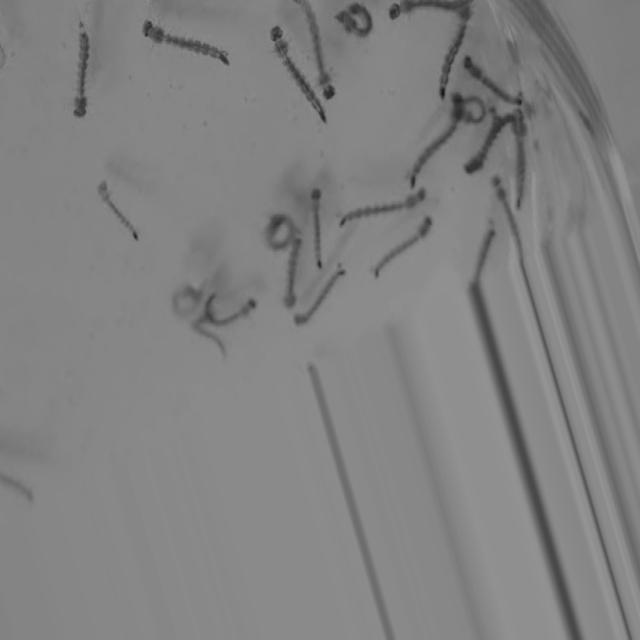larvas: (267, 18, 330, 127), (400, 105, 466, 191), (459, 49, 532, 119), (332, 185, 428, 237), (371, 212, 438, 285), (297, 1, 339, 107), (140, 21, 227, 71), (93, 173, 144, 251), (293, 265, 349, 334), (462, 111, 512, 182), (430, 22, 471, 105), (490, 169, 526, 245), (508, 111, 529, 207), (191, 315, 234, 361), (207, 290, 258, 327), (281, 236, 305, 309), (387, 0, 468, 21), (76, 20, 92, 119), (337, 1, 374, 39), (473, 226, 495, 282), (172, 280, 204, 318), (264, 212, 296, 248), (310, 187, 324, 266), (456, 94, 487, 128)
